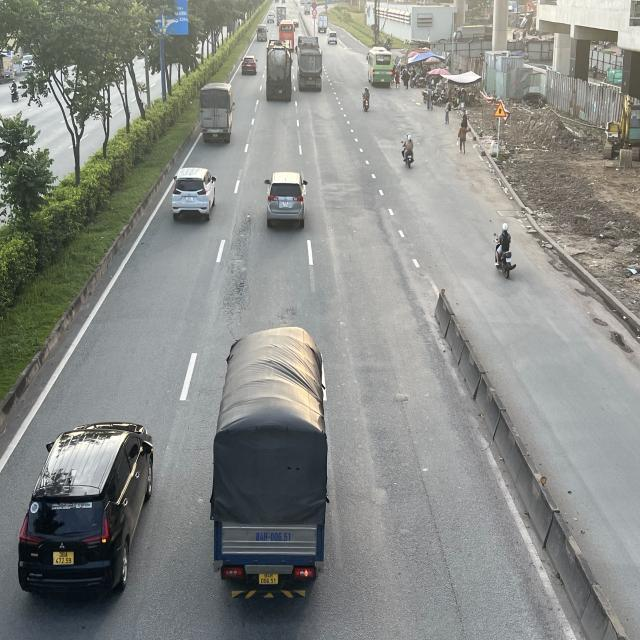car: (20, 424, 160, 596), (264, 173, 308, 231), (173, 169, 218, 222), (241, 56, 258, 78), (325, 28, 338, 46), (268, 12, 276, 25)
coach: (366, 48, 394, 86)
container: (266, 39, 294, 100), (298, 37, 324, 94)
truck: (212, 324, 336, 599), (200, 82, 234, 143), (317, 13, 329, 31)
